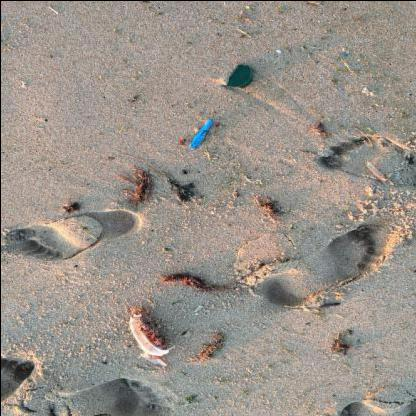Lid: (225, 64, 252, 88)
Other plastic: (127, 312, 175, 366), (189, 118, 212, 148)
